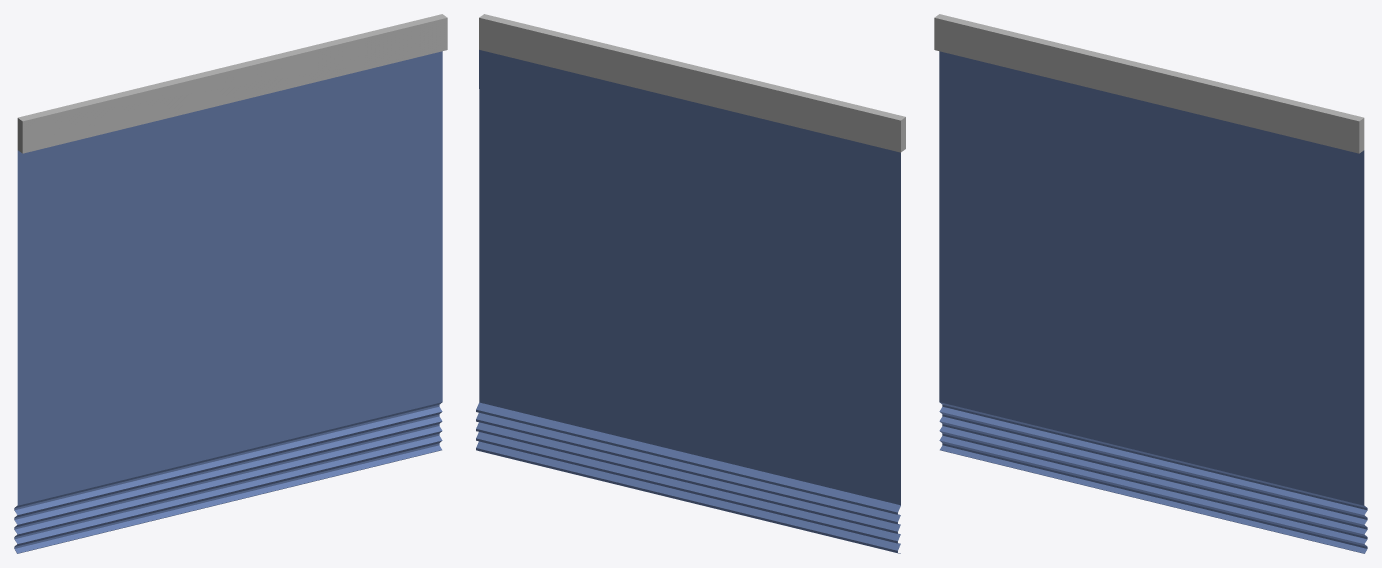
Rendered from Roman_shades_anim.glb.
The picture shows the model from 3 angles, left to right: view 1: azimuth 30°, elevation 25°; view 2: azimuth 150°, elevation 25°; view 3: azimuth 330°, elevation 25°; orthographic projection.
Visible parts, largest first — view 1: polySurface1, polySurface3; view 2: polySurface1, polySurface3; view 3: polySurface1, polySurface3.
Part boxes in pixels (x1=…): polySurface1: x1=14, y1=51, x2=442, y2=553; polySurface3: x1=17, y1=14, x2=447, y2=153; polySurface1: x1=476, y1=50, x2=900, y2=553; polySurface3: x1=479, y1=14, x2=905, y2=152; polySurface1: x1=939, y1=51, x2=1367, y2=553; polySurface3: x1=934, y1=14, x2=1364, y2=153.
Size of the model in its own units: 46.82 by 45.96 by 1.57.
